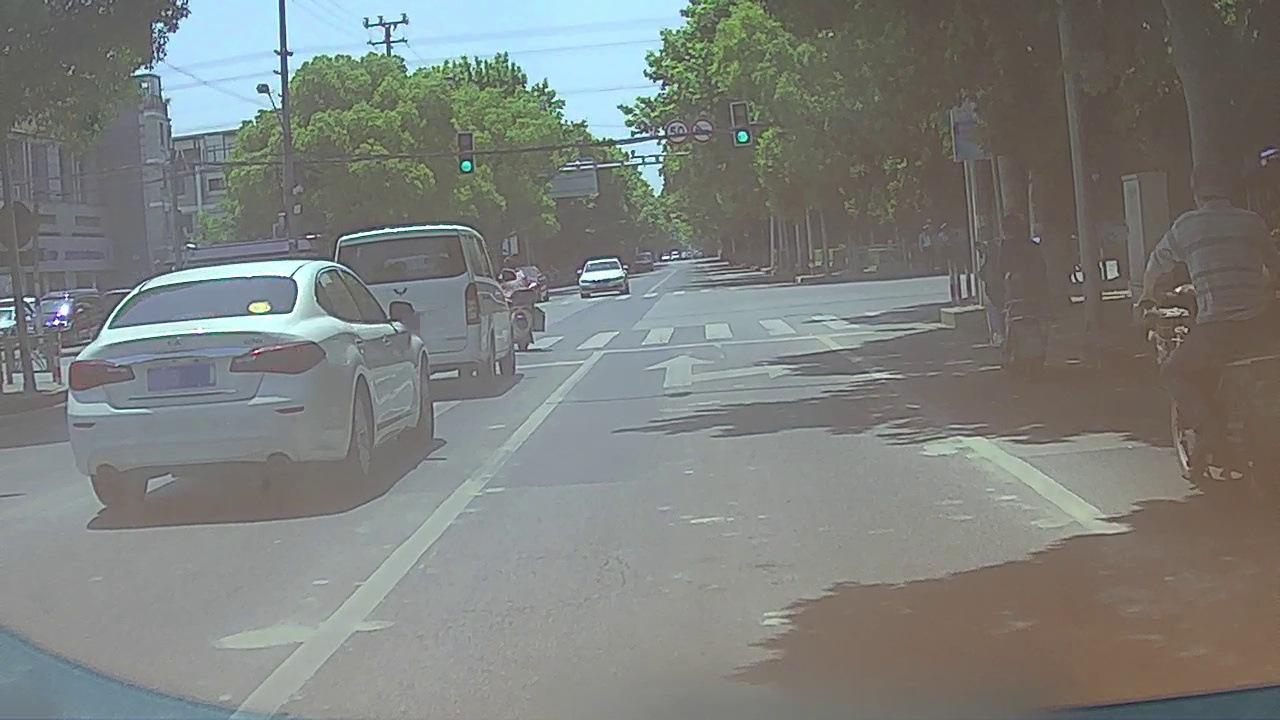traffic_light: (733, 102, 750, 145), (459, 133, 473, 174)
